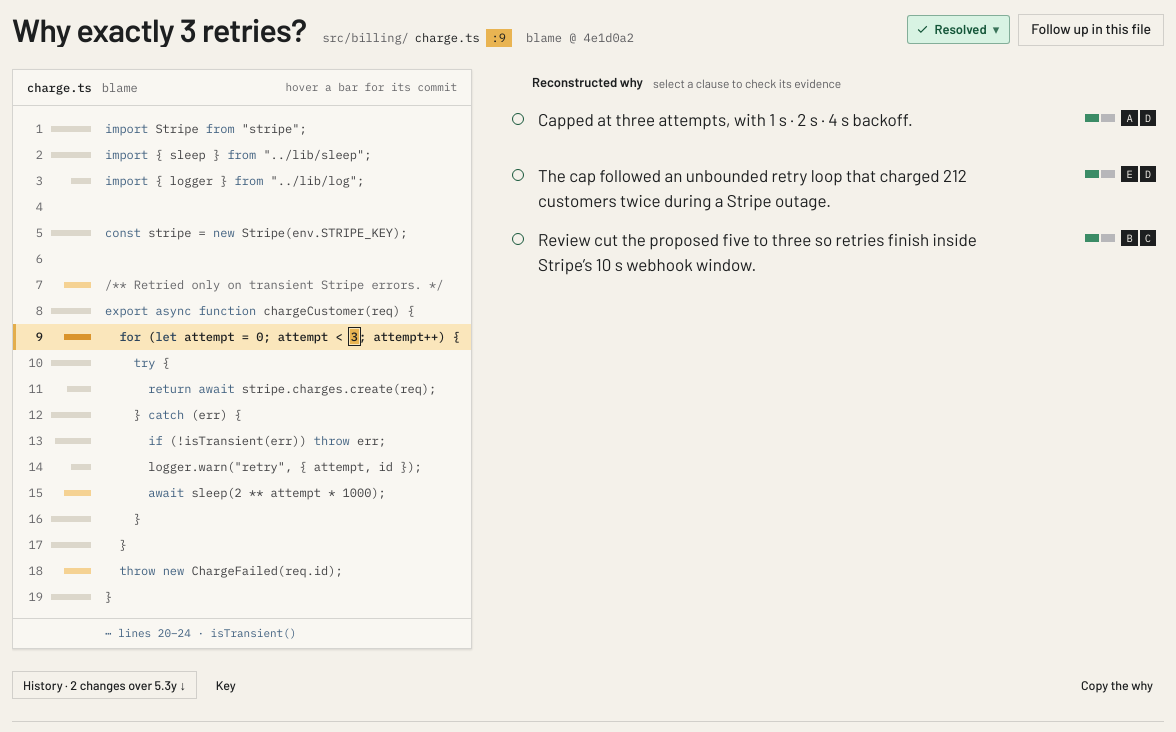
Scenario: LineInvestigation — evidence in place › opens the evidence of a clause right under it, on its first source
Click the 4th button: (834, 187) [504, 157, 1164, 217]
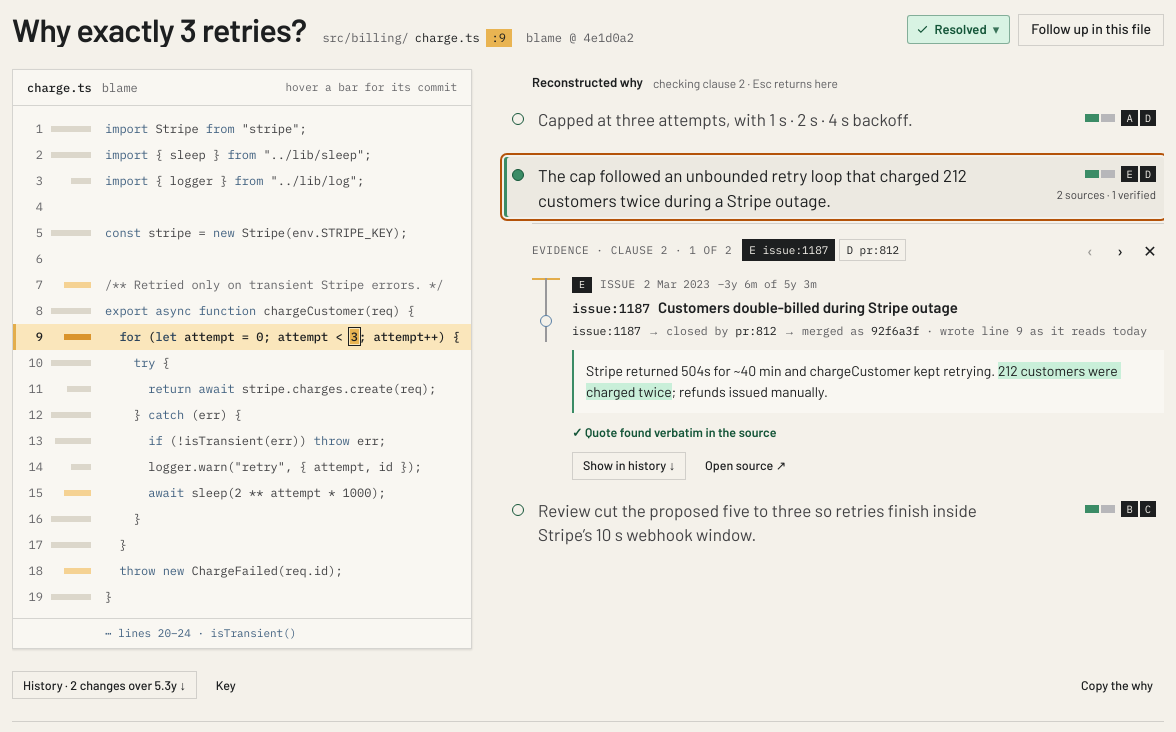
expect the heading "EVIDENCE · CLAUSE 2 · 1 OF 2" is shown: met, box [532, 242, 732, 259]
expect the text "✓ Quote found verbatim in the source" is shown: met, box [572, 424, 776, 440]
expect the text "checking clause 2 · Esc returns here" is shown: met, box [653, 75, 838, 91]
